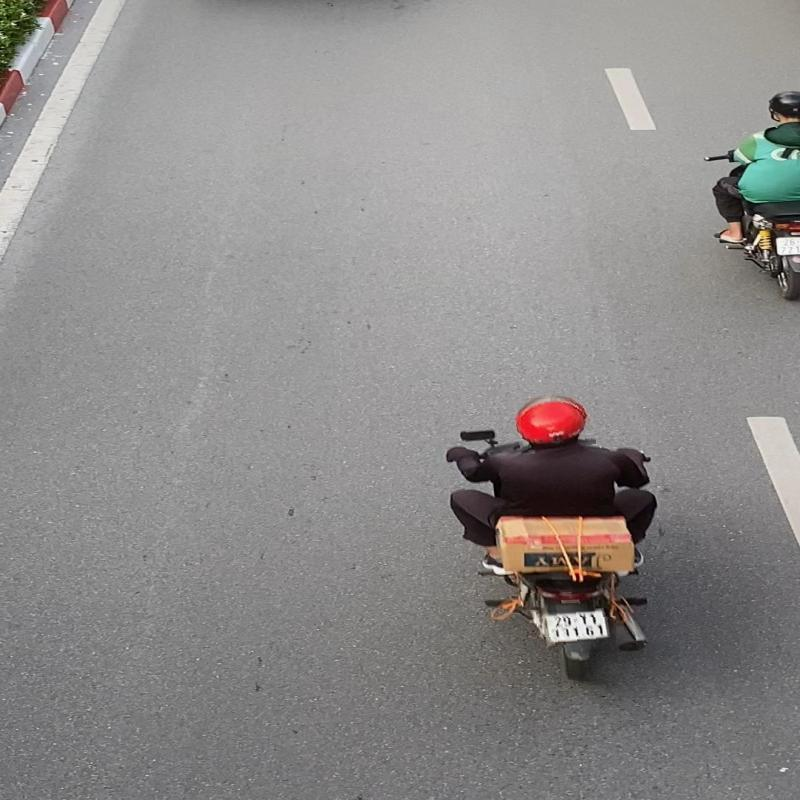helmet: (515, 394, 594, 453)
licenseplate: (537, 608, 616, 645)
motorcyclist: (437, 390, 665, 681)
